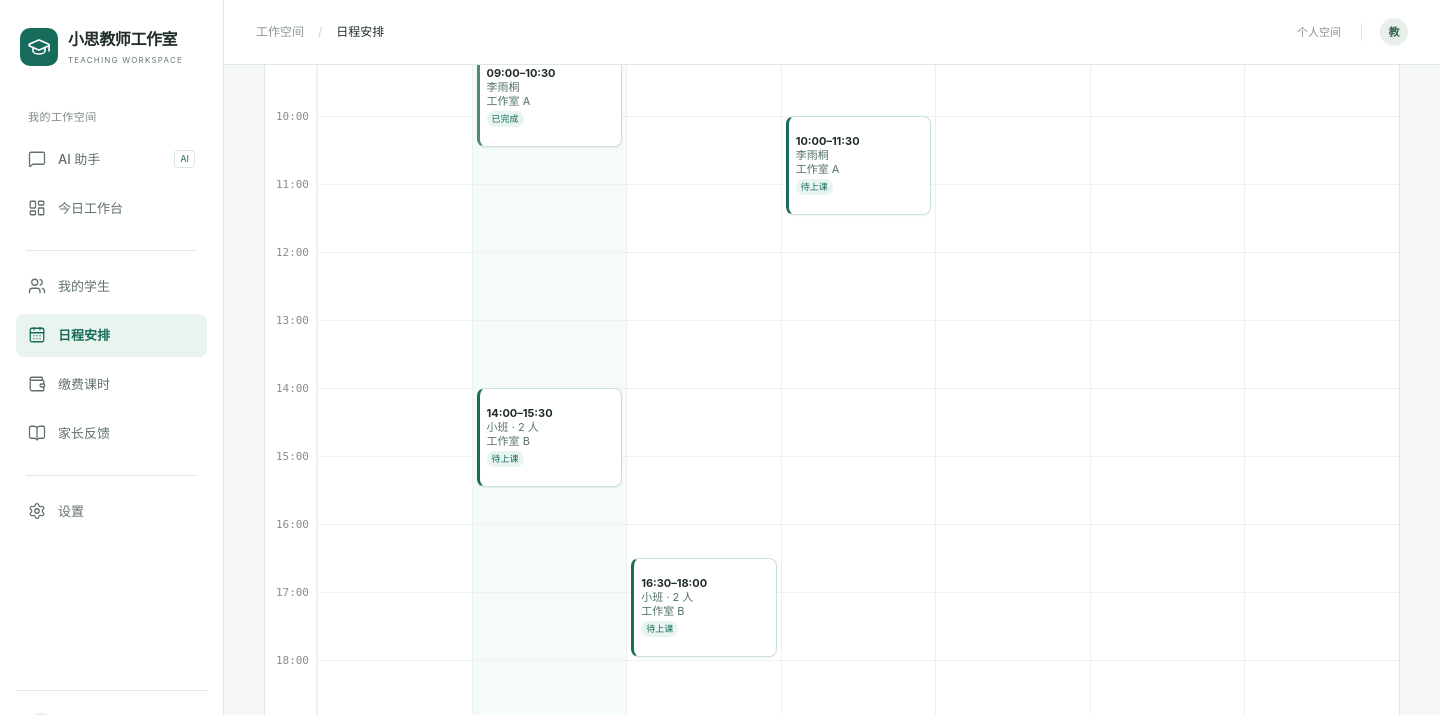
it: 课程摘要信息密度 › 周历显示三项摘要与状态，详情保留备注
The image size is (1440, 715).
(page scrolled)
Step 1. Click the button with aria-label "查看 14:00 至 15:30" → point(549, 438), box [477,388,622,487]
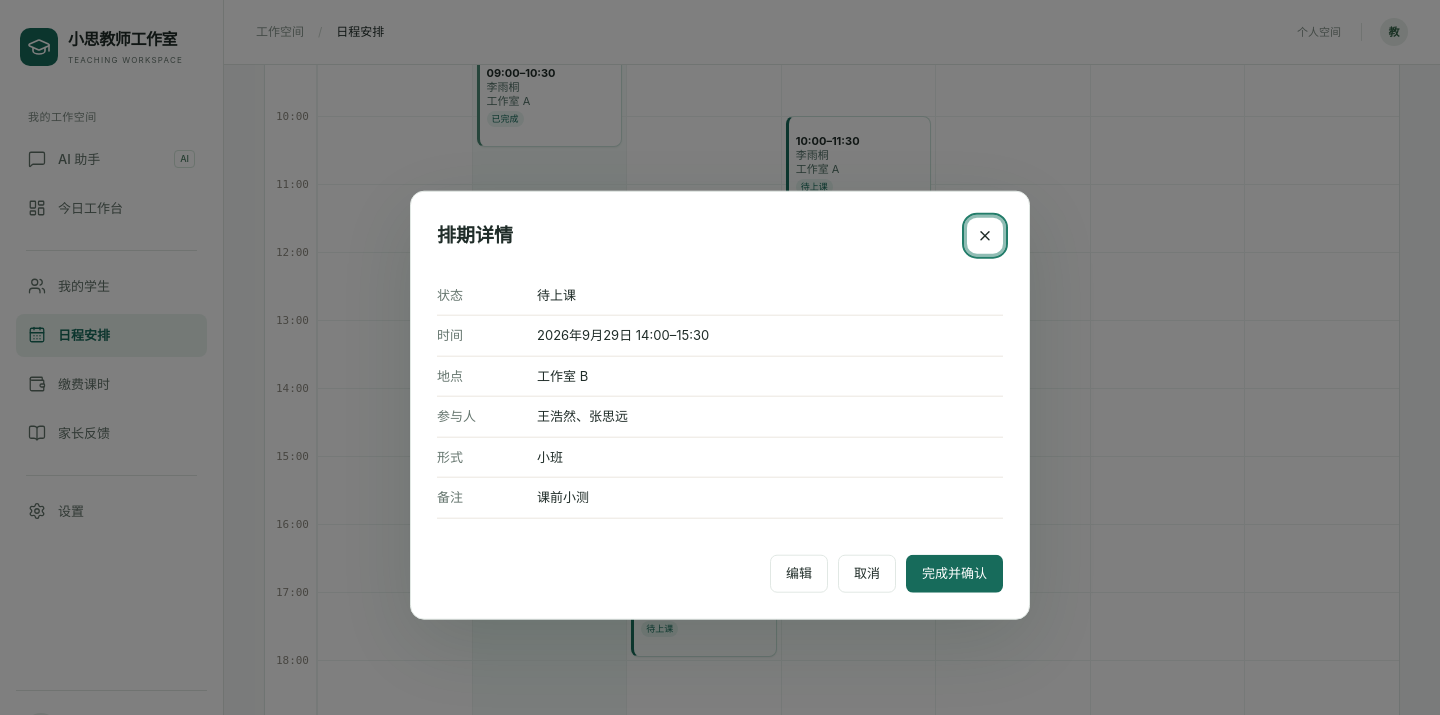
Expected: the text "课前小测" is shown, [537,489,589,505]
